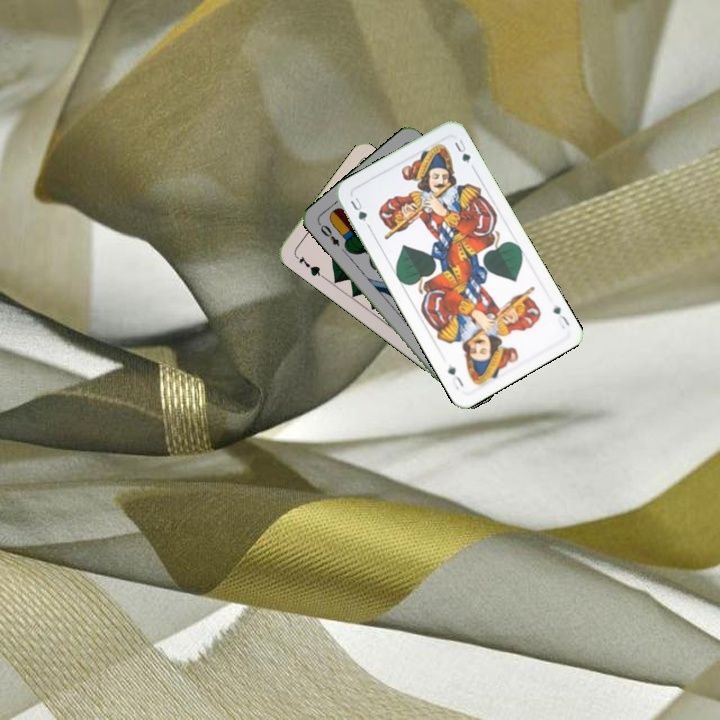EO: (314, 219, 342, 249)
G7: (291, 251, 326, 280)
GU: (346, 193, 372, 230), (549, 301, 573, 332)
